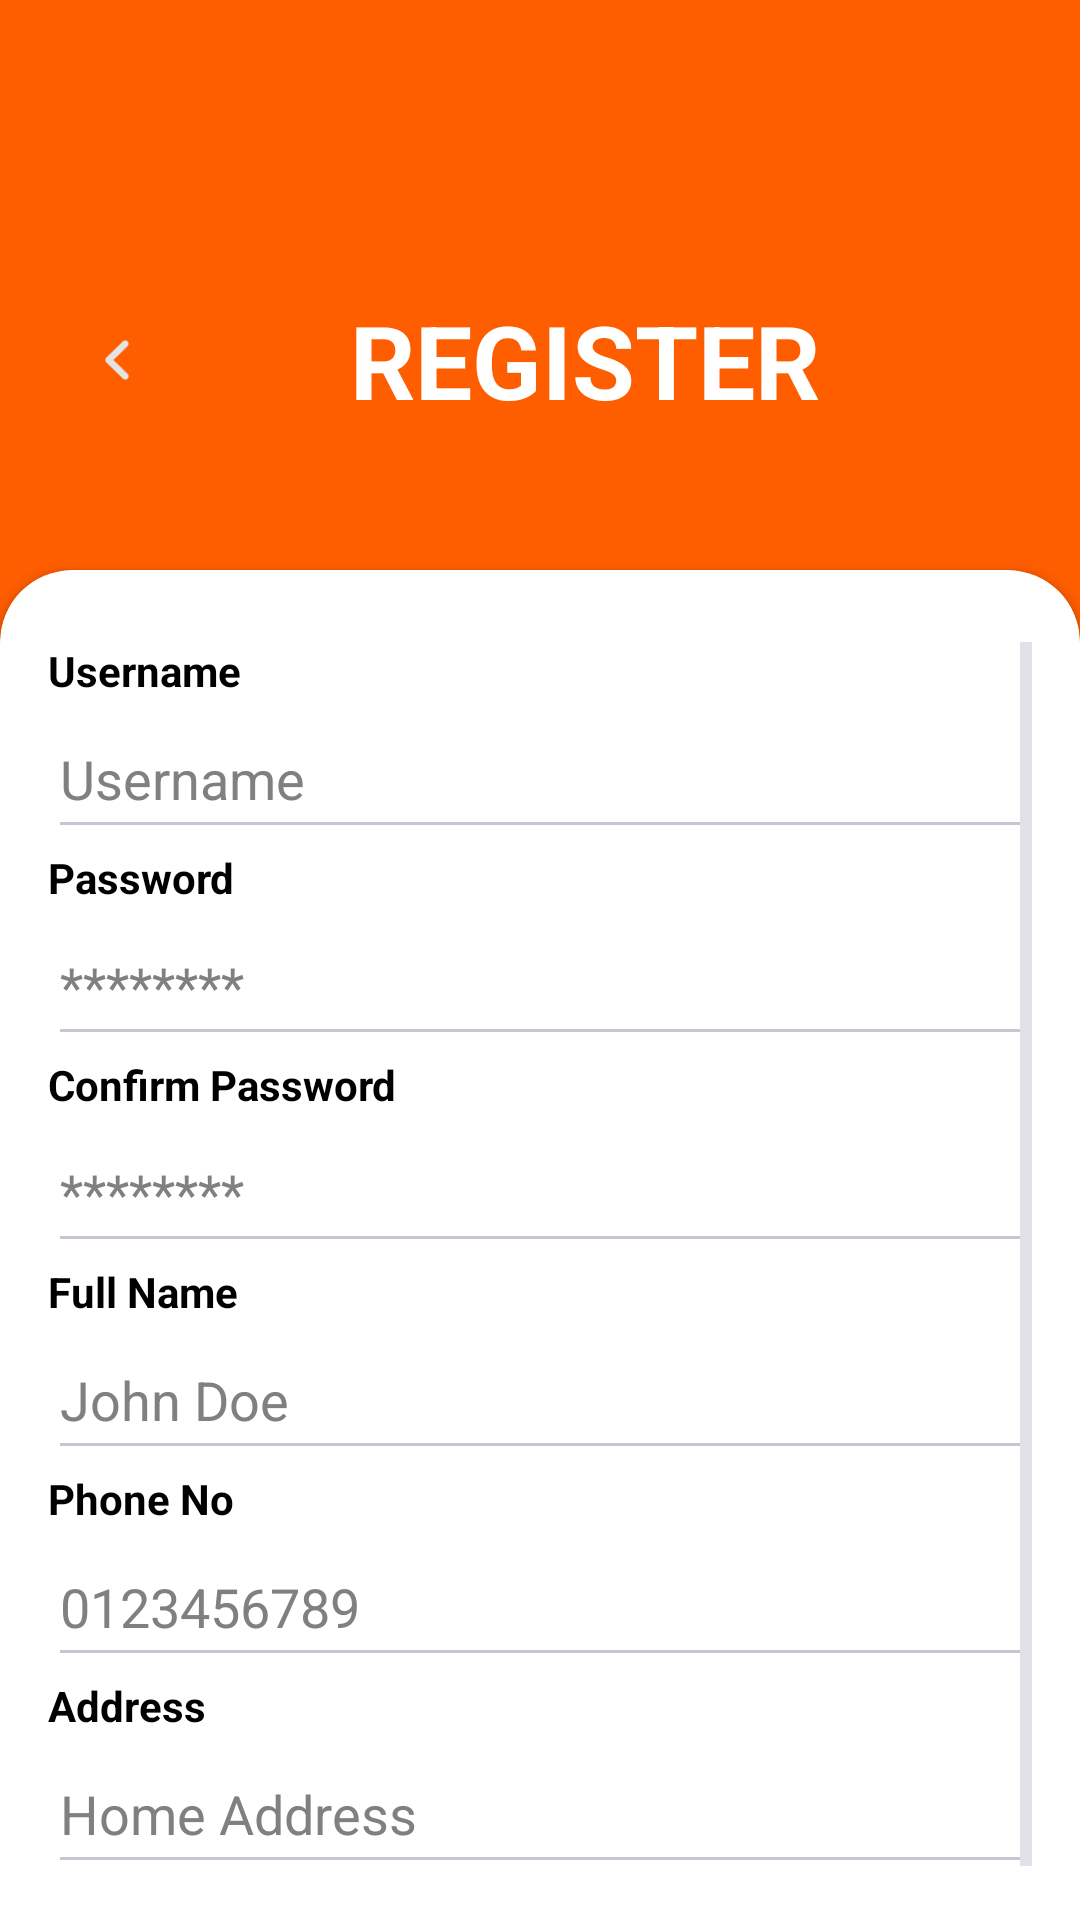

Named icons in this screenshot (1080px×1920px) and their centers, (x,y):
back: (117,360)
